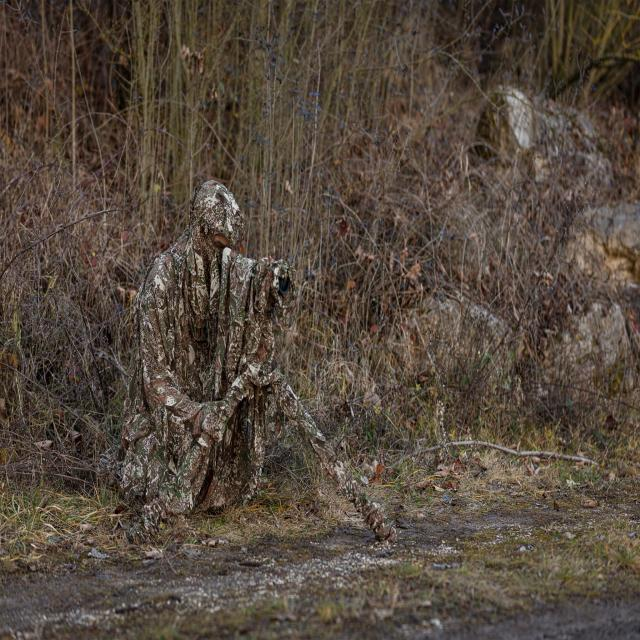Camouflage: (106, 179, 392, 543)
